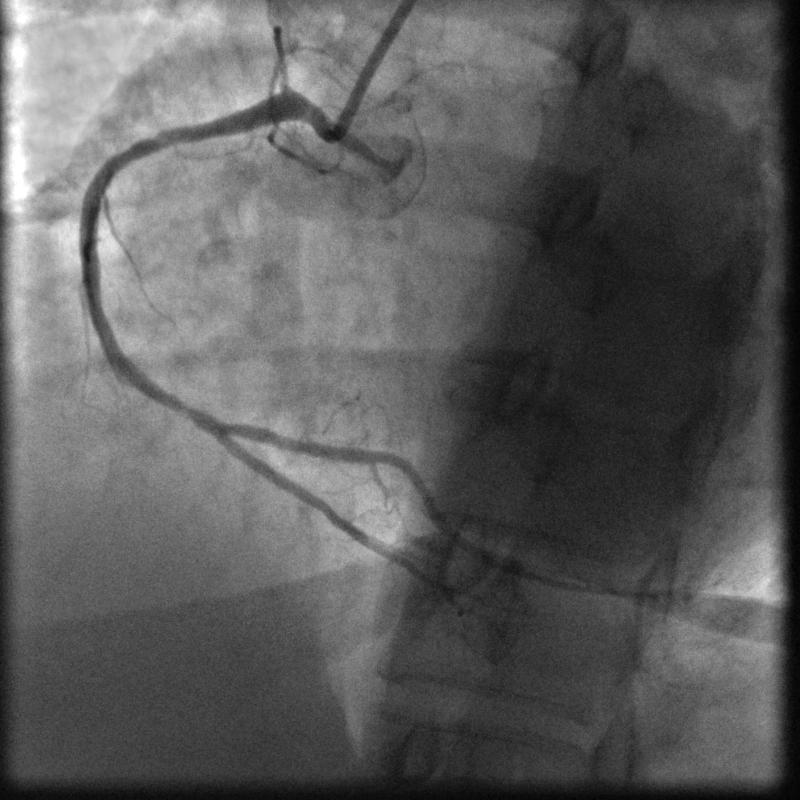Stenosis: (175, 387, 221, 448)
